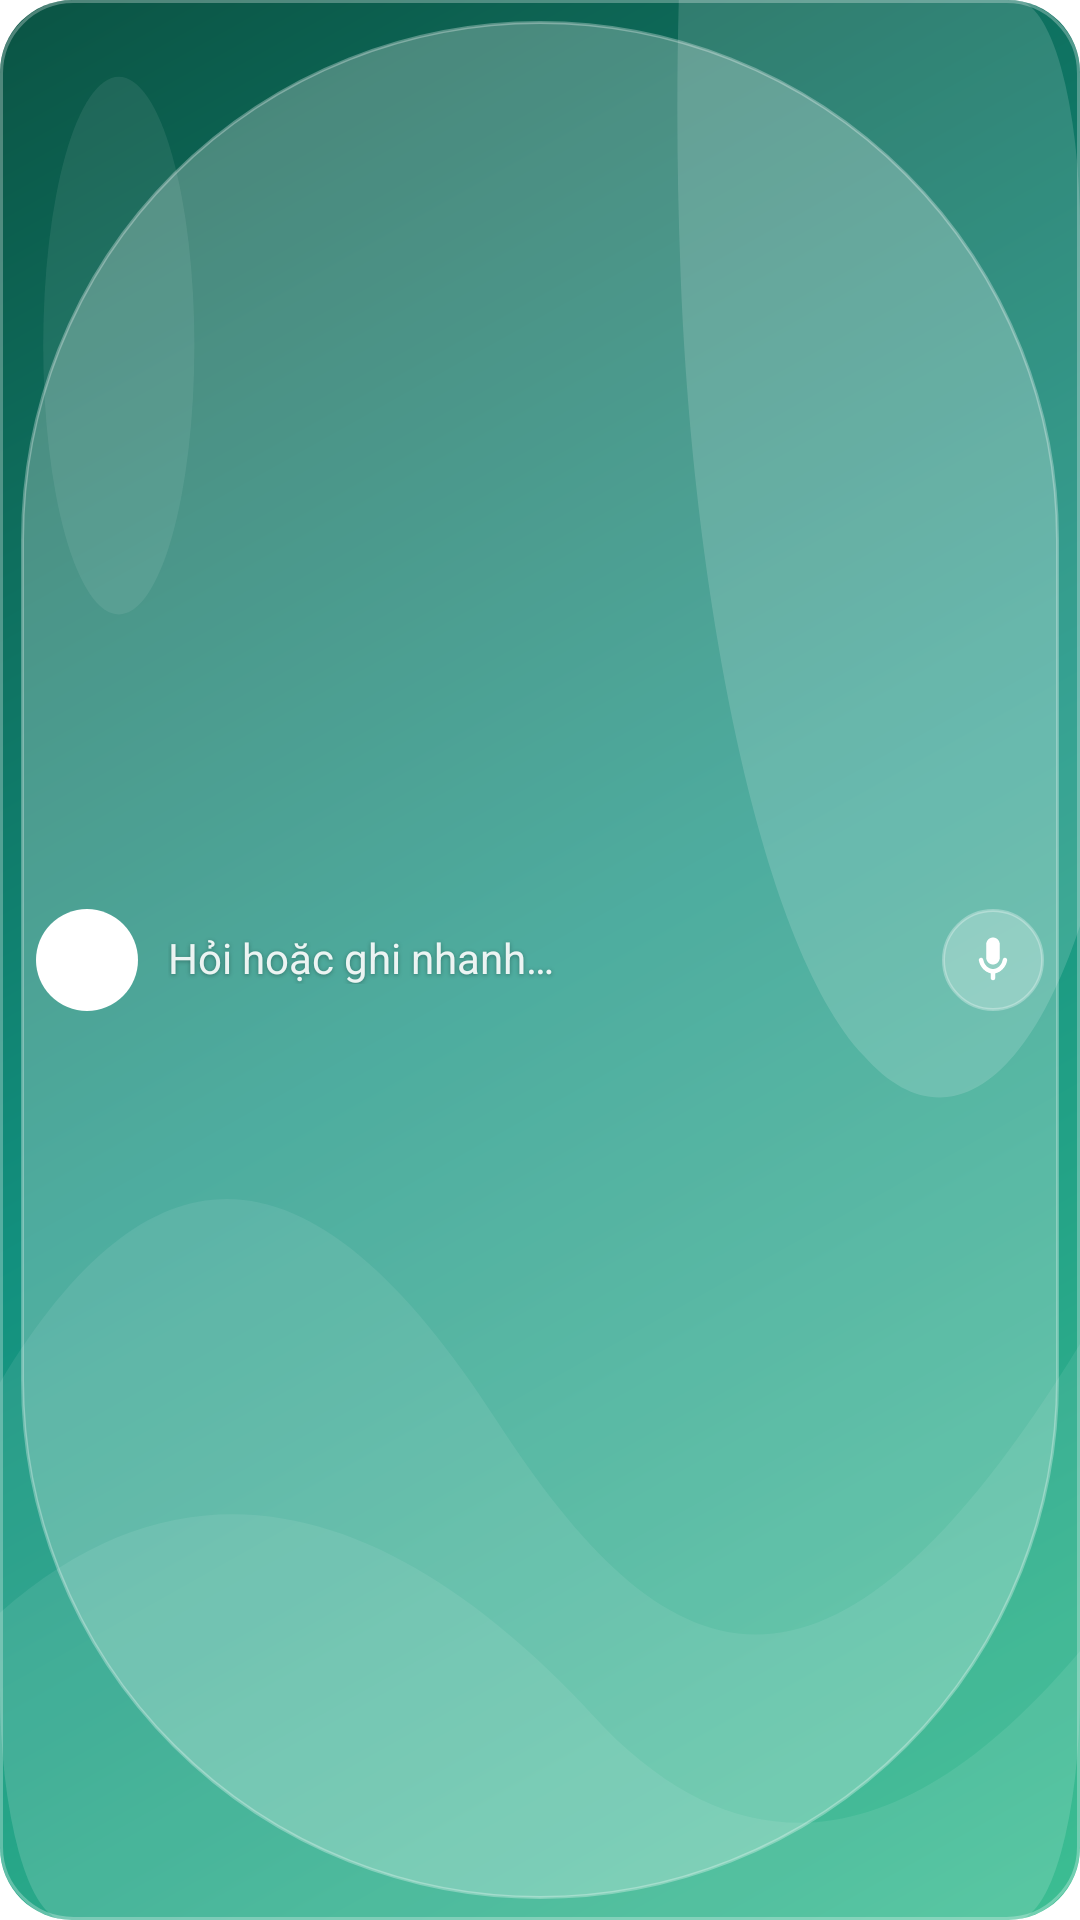

Where to tap for icons on this 1080x1920 app screen, as [x,y]:
Nói với Trợ lý: [993,960]
